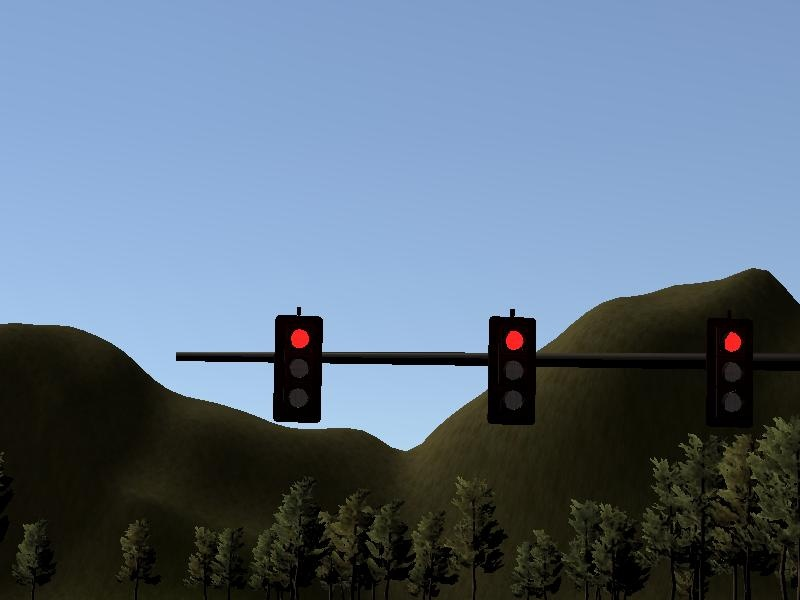red: (486, 318, 537, 427), (273, 317, 323, 423), (707, 320, 752, 430)
